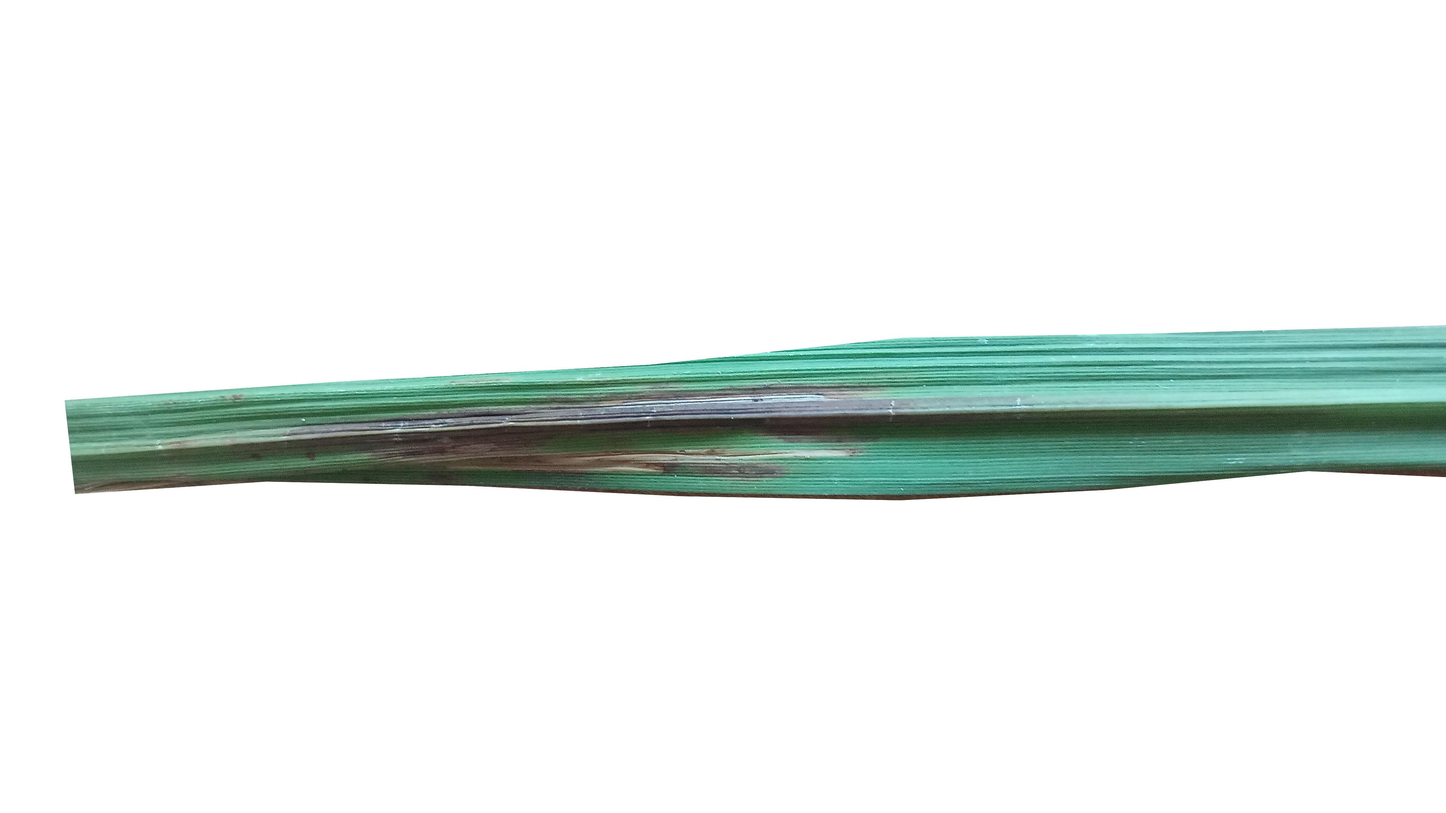Blight: (202, 384, 994, 500)
